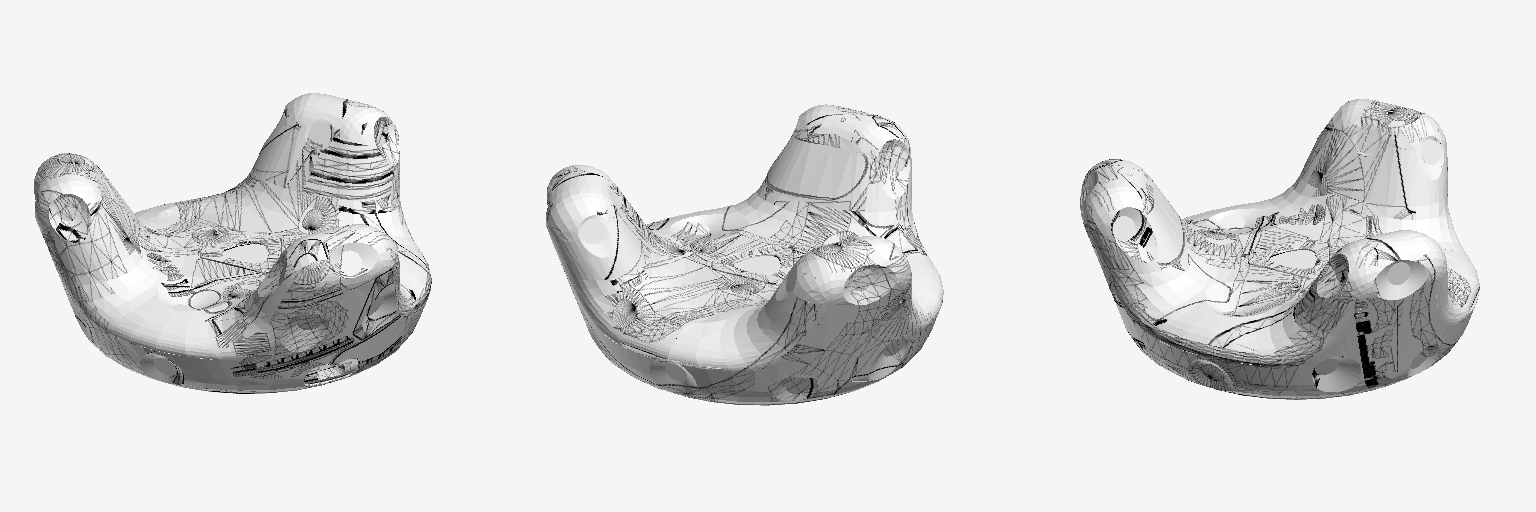
The picture shows the model from 3 angles: view 1: azimuth 30°, elevation 25°; view 2: azimuth 150°, elevation 25°; view 3: azimuth 270°, elevation 25°; orthographic projection.
Parts seen in each view (by area): view 1: HTC_Vive_Tracker; view 2: HTC_Vive_Tracker; view 3: HTC_Vive_Tracker.
Boxes of the visible parts, box(x1,y1,x2,y2) form: HTC_Vive_Tracker: box(34, 93, 431, 393); HTC_Vive_Tracker: box(546, 104, 943, 405); HTC_Vive_Tracker: box(1080, 99, 1479, 399).
Size of the model in its own units: 0.0945 by 0.0423 by 0.0921.
1 materials, 1 textured.